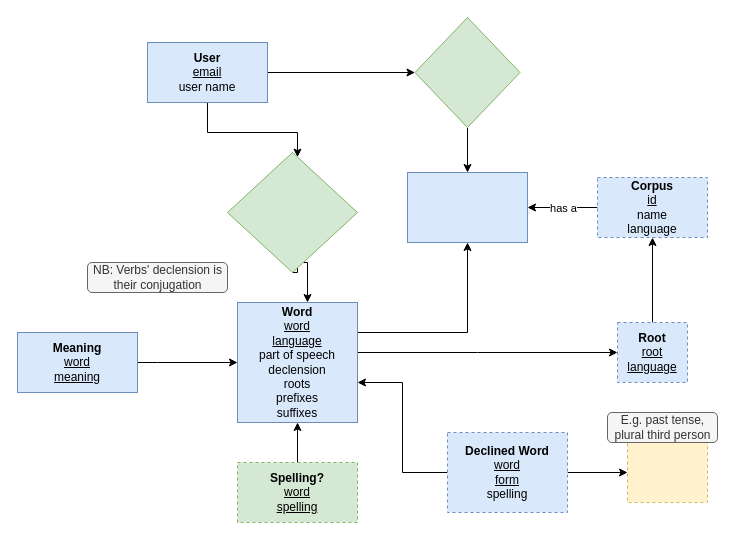
This 735x540 diagram has some shape labels left out. Each missing label, with the box of its shape:
Form form: (626, 442, 708, 502)
Known Words user word familiarity staleness: (226, 152, 358, 272)
Language id description: (406, 172, 528, 242)
Proficiency user language level: (414, 16, 520, 128)
